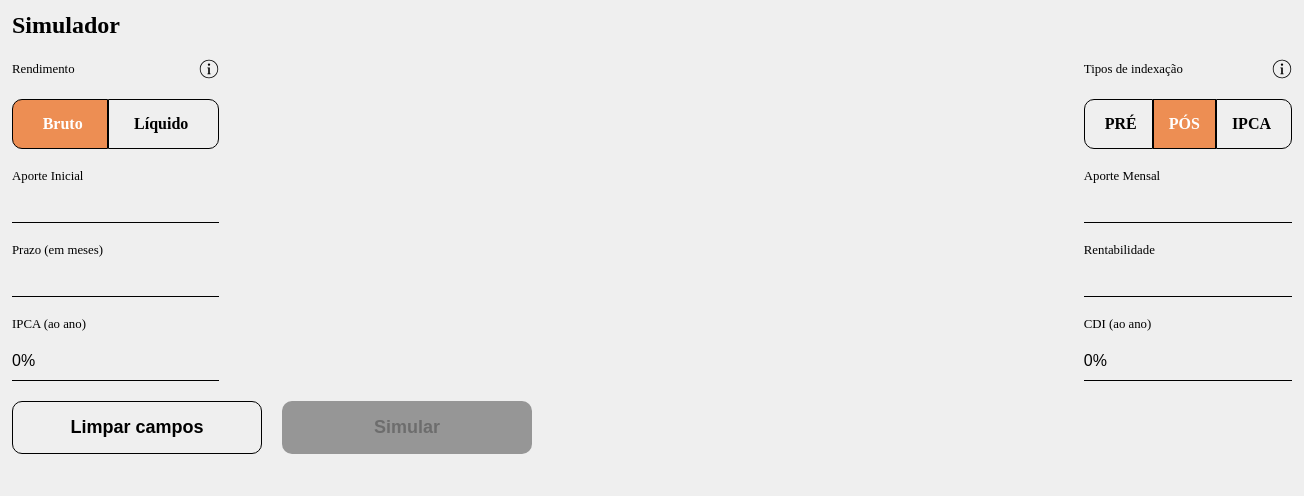
it: Simulator component › identifies text instead of numeric input on timeInMonths as wrong
Type "teste" into the field named "Prazo (em meses)".
click(116, 282); type("teste")  # box [12, 268, 219, 297]
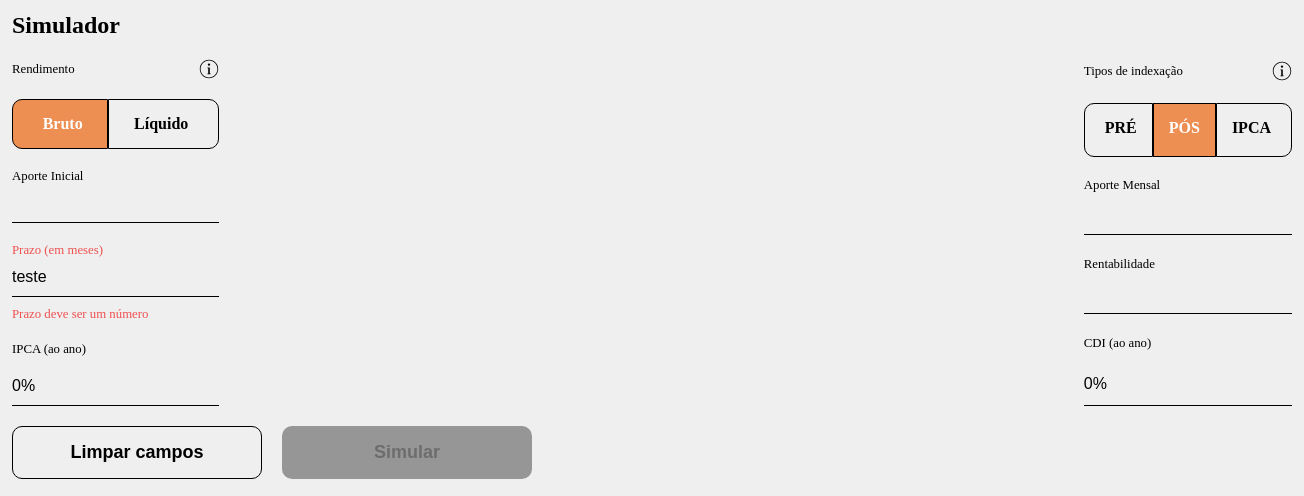
Expected: the text "Prazo deve ser um número" is shown, [12, 307, 148, 321]
